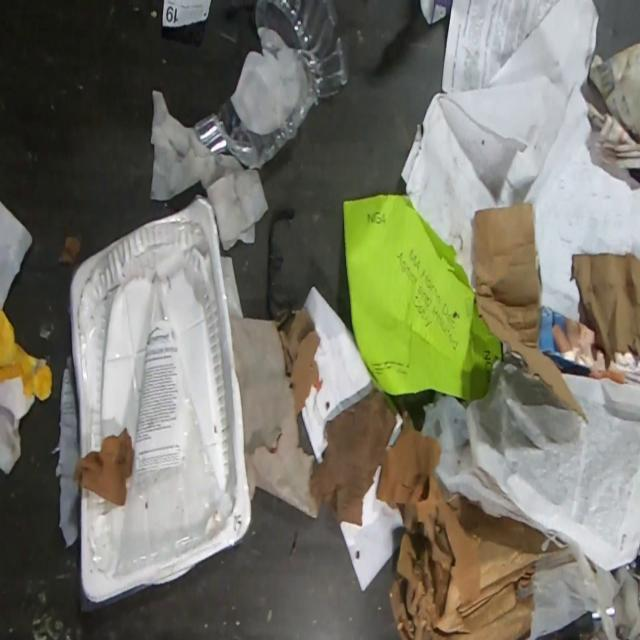cardboard: (375, 409, 570, 640), (472, 200, 587, 422)
rigid_plastic: (67, 192, 252, 605), (192, 0, 352, 171)
